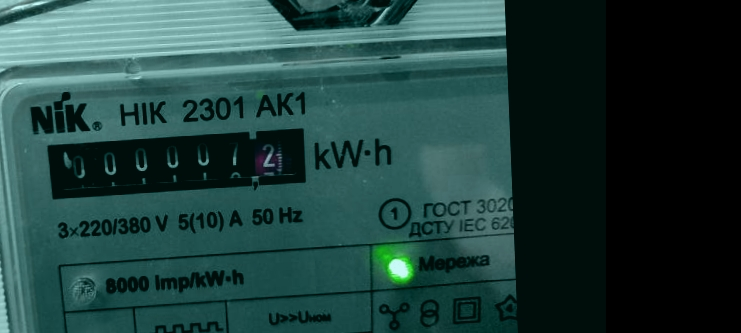0: (68, 151, 86, 179), (162, 142, 180, 169), (100, 148, 117, 176), (131, 144, 148, 172), (194, 139, 210, 168)
2: (259, 142, 276, 168)
7: (225, 137, 241, 168)
screen: (35, 121, 317, 204)
